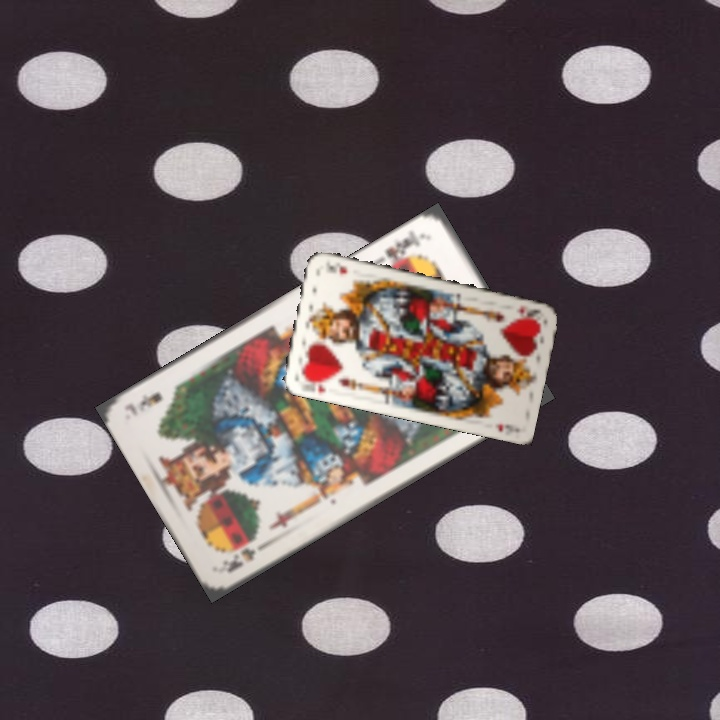HK: (300, 373, 331, 396), (512, 302, 544, 319)
SK: (379, 226, 430, 273), (218, 544, 259, 576)
